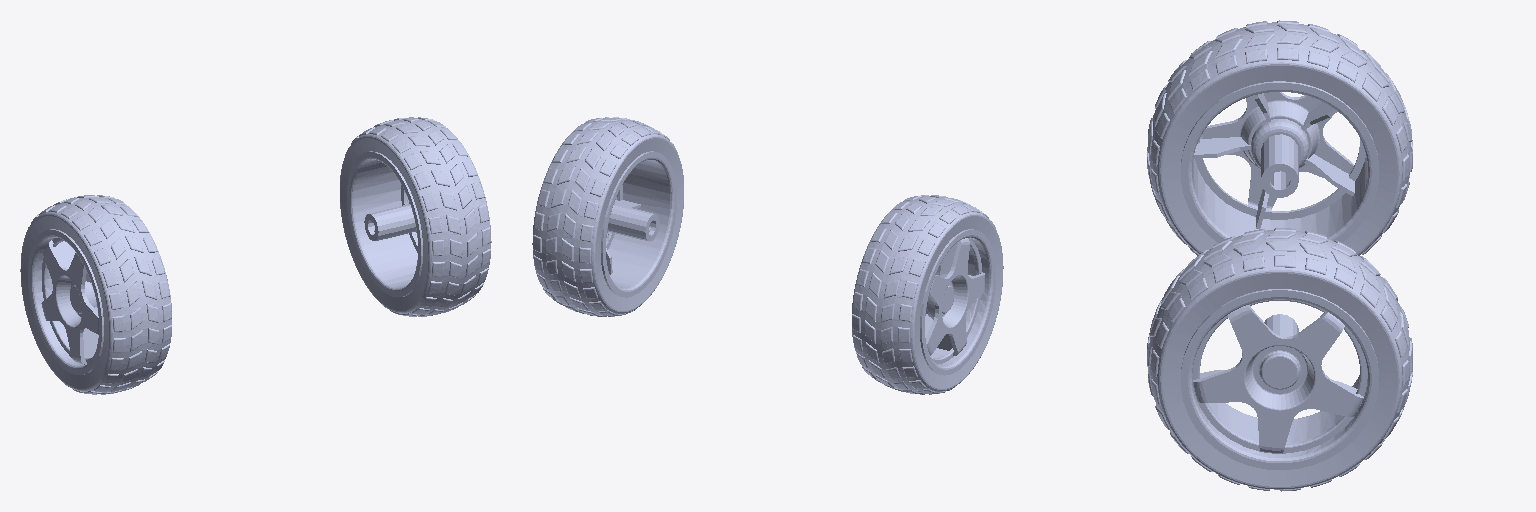
robot.urdf — Atlas:
<?xml version="1.0" encoding="utf-8"?>
<!-- This URDF was automatically created by SolidWorks to URDF Exporter! Originally created by [author] ([email redacted]) 
     Commit Version: 1.6.0-1-g15f4949  Build Version: 1.6.7594.29634
     For more information, please see http://wiki.ros.org/sw_urdf_exporter -->
<robot
  name="Atlas">
  <link
    name="base">
    <inertial>
      <origin
        xyz="-0.000212909415452442 0.0141353979927346 0.0286449785299869"
        rpy="0 0 0" />
      <mass
        value="0.499281541152724" />
      <inertia
        ixx="0.0003977555784519"
        ixy="-1.28352546731864E-06"
        ixz="-1.07524080810202E-08"
        iyy="0.000455844917654945"
        iyz="3.25184720260079E-07"
        izz="0.000828962036935886" />
    </inertial>
    <visual>
      <origin
        xyz="0 0 0"
        rpy="0 0 0" />
      <geometry>
        <mesh
          filename="package://atlas_description/meshes/base_link.STL" />
      </geometry>
      <material
        name="">
        <color
          rgba="0.792156862745098 0.819607843137255 0.933333333333333 1" />
      </material>
    </visual>
    <collision>
      <origin
        xyz="0 0 0"
        rpy="0 0 0" />
      <geometry>
        <mesh
          filename="package://atlas_description/meshes/base_link.STL" />
      </geometry>
    </collision>
  </link>
  <link
    name="lwheel">
    <inertial>
      <origin
        xyz="-1.87554312358618E-10 1.86289956377594E-08 0.018127012381905"
        rpy="0 0 0" />
      <mass
        value="0.166945648009266" />
      <inertia
        ixx="6.72926923359967E-05"
        ixy="2.20526901917458E-10"
        ixz="9.50965859543208E-15"
        iyy="6.72964003560096E-05"
        iyz="-3.21802216170622E-12"
        izz="0.000113206411587865" />
    </inertial>
    <visual>
      <origin
        xyz="0 0 0"
        rpy="0 0 0" />
      <geometry>
        <mesh
          filename="package://atlas_description/meshes/lwheel_link.STL" />
      </geometry>
      <material
        name="">
        <color
          rgba="0.792156862745098 0.819607843137255 0.933333333333333 1" />
      </material>
    </visual>
    <collision>
      <origin
        xyz="0 0 0"
        rpy="0 0 0" />
      <geometry>
        <mesh
          filename="package://atlas_description/meshes/lwheel_link.STL" />
      </geometry>
    </collision>
  </link>
  <joint
    name="lwheel_joint"
    type="continuous">
    <origin
      xyz="-0.0459 0.0476 -0.013"
      rpy="1.5708 0 -1.5708" />
    <parent
      link="base" />
    <child
      link="lwheel" />
    <axis
      xyz="0 0 1" />
  </joint>
  <link
    name="rwheel">
    <inertial>
      <origin
        xyz="1.86223433409904E-08 -6.26257727967539E-10 0.0181270123819041"
        rpy="0 0 0" />
      <mass
        value="0.166945648008949" />
      <inertia
        ixx="6.72963740376347E-05"
        ixy="-3.81485680665361E-10"
        ixz="-3.20558006910943E-12"
        iyy="6.72927186542622E-05"
        iyz="1.10863396748118E-13"
        izz="0.000113206411587755" />
    </inertial>
    <visual>
      <origin
        xyz="0 0 0"
        rpy="0 0 0" />
      <geometry>
        <mesh
          filename="package://atlas_description/meshes/rwheel_link.STL" />
      </geometry>
      <material
        name="">
        <color
          rgba="0.792156862745098 0.819607843137255 0.933333333333333 1" />
      </material>
    </visual>
    <collision>
      <origin
        xyz="0 0 0"
        rpy="0 0 0" />
      <geometry>
        <mesh
          filename="package://atlas_description/meshes/rwheel_link.STL" />
      </geometry>
    </collision>
  </link>
  <joint
    name="rwheel_joint"
    type="continuous">
    <origin
      xyz="0.0459 0.0476 -0.013"
      rpy="1.5708 0 1.5708" />
    <parent
      link="base" />
    <child
      link="rwheel" />
    <axis
      xyz="0 0 1" />
  </joint>
</robot>

--- Facts derived from the render (not from the file) ---
Views: 3 orthographic renders of the robot side by side, from view 1: azimuth 30°, elevation 25°; view 2: azimuth 150°, elevation 25°; view 3: azimuth 270°, elevation 25°.
Model Atlas with 3 links and 2 joints (2 continuous), rooted at base, posed every joint at zero.
Visible links, largest first — view 1: rwheel, lwheel; view 2: rwheel, lwheel; view 3: rwheel, lwheel.
Boxes of the visible links, left/top/right/bottom form: rwheel: left=340, top=117, right=491, bottom=316; lwheel: left=20, top=195, right=171, bottom=394; rwheel: left=532, top=117, right=683, bottom=316; lwheel: left=852, top=195, right=1003, bottom=394; rwheel: left=1147, top=228, right=1412, bottom=491; lwheel: left=1147, top=20, right=1412, bottom=255.
Size in the robot's own frame: 0.1518 by 0.0689 by 0.0689 metres.
Meshes: 3 distinct files referenced, 2 mesh visuals loaded (2 binary STL); not drawn: 1 (reference not matched to a file when rendering).